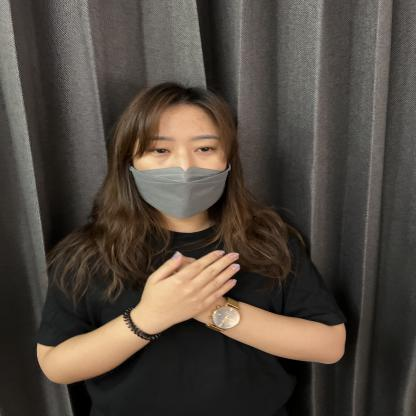Grieve: (55, 225, 345, 364)
